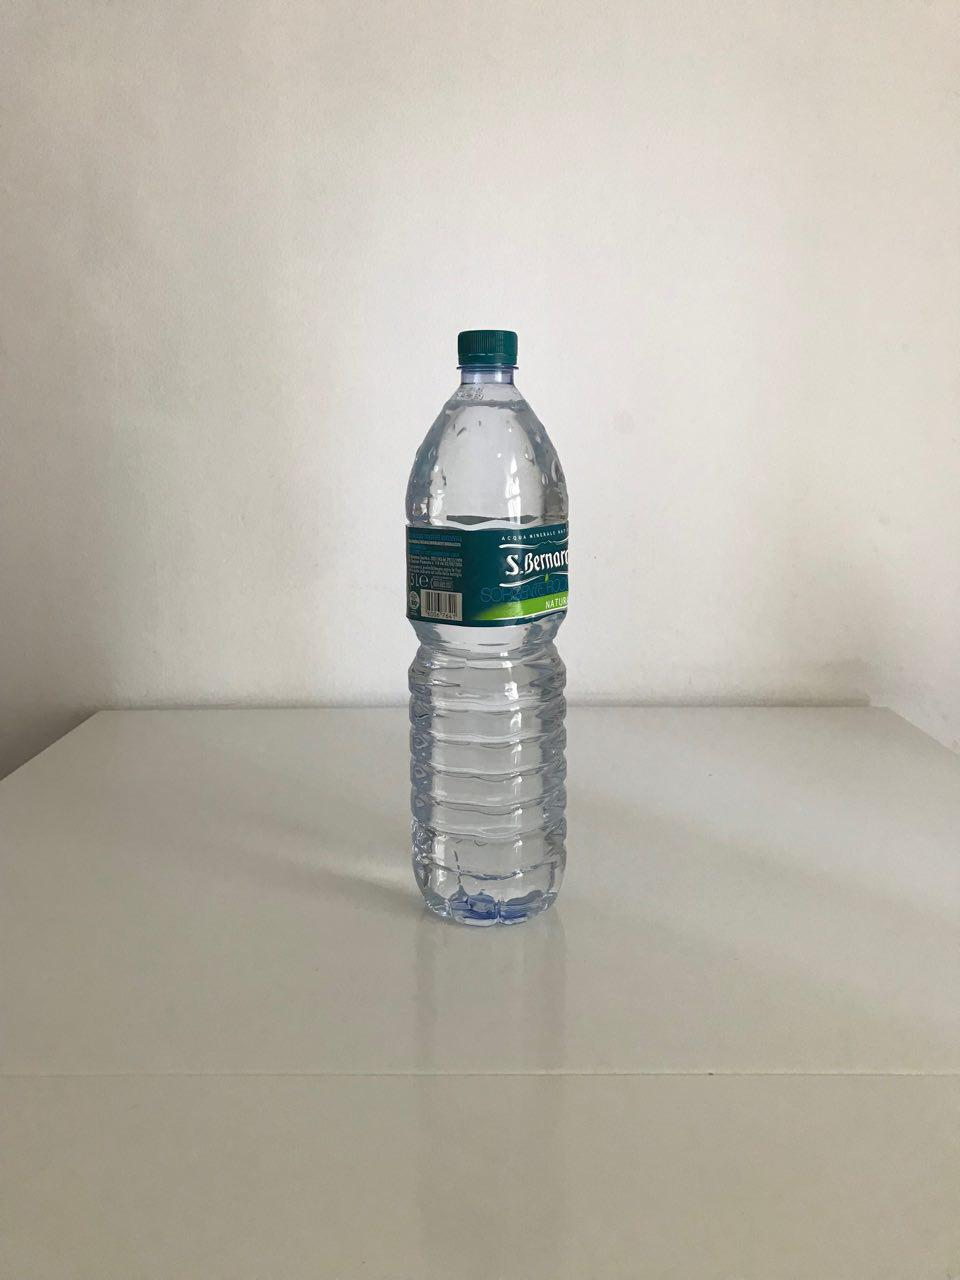san_bernardo: (403, 329, 571, 929)
